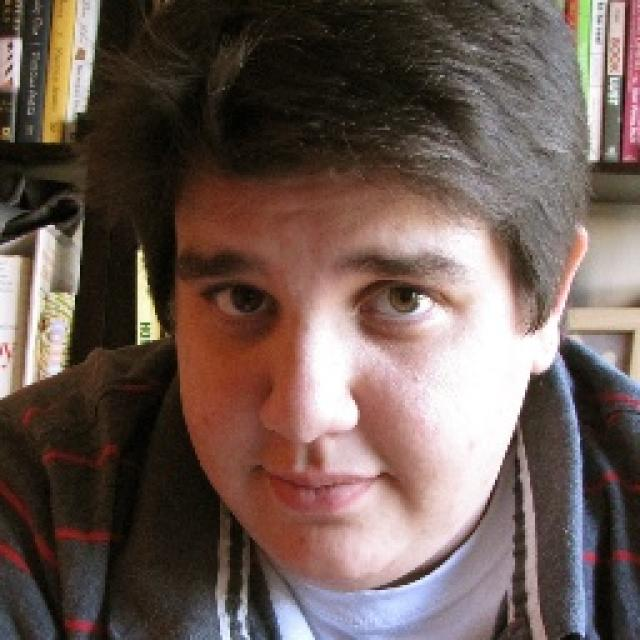earlobe: (527, 324, 562, 375)
eye: (203, 282, 278, 321), (358, 285, 439, 319)
nose: (252, 412, 368, 488)
wholeear: (527, 219, 590, 375)
